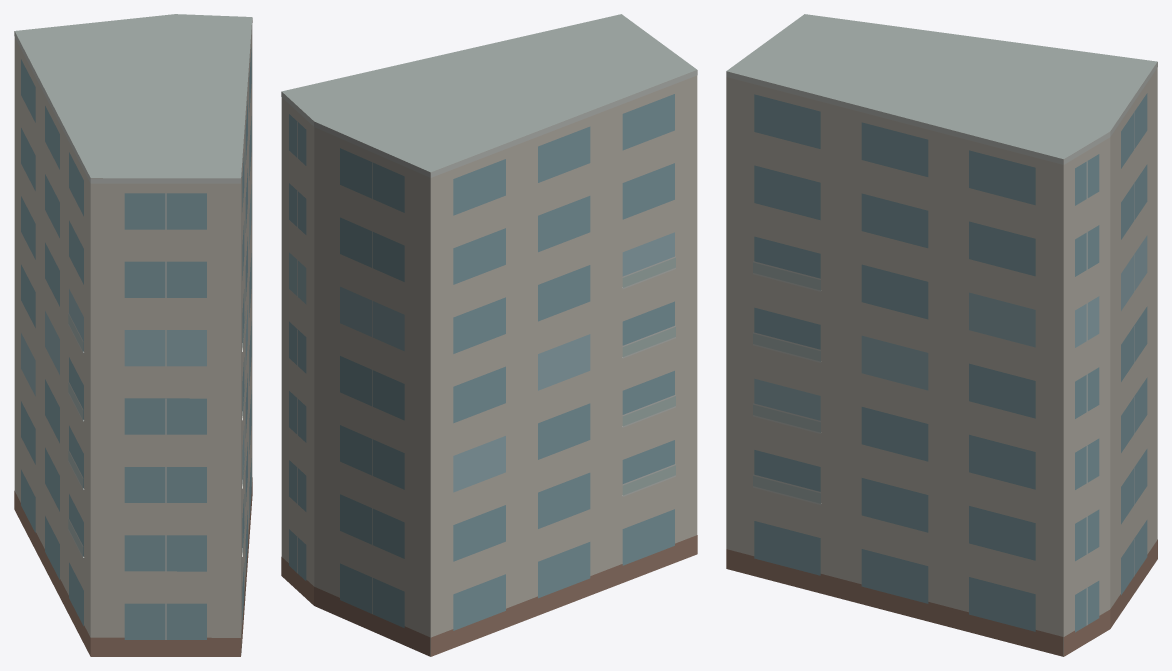
The model's file is survey-upis-32819370.glb.
The picture shows the model from 3 angles, left to right: view 1: azimuth 30°, elevation 25°; view 2: azimuth 150°, elevation 25°; view 3: azimuth 270°, elevation 25°; orthographic projection. The views are drawn at different scales.
Visible parts, largest first — view 1: survey-upis-32819370.tmp; view 2: survey-upis-32819370.tmp; view 3: survey-upis-32819370.tmp.
Boxes of the visible parts, x1,y1,x2,y2 form: survey-upis-32819370.tmp: (14, 14, 252, 656); survey-upis-32819370.tmp: (281, 14, 697, 656); survey-upis-32819370.tmp: (726, 14, 1157, 656).
Size of the model in its own units: 13.37 by 21.35 by 16.79.
